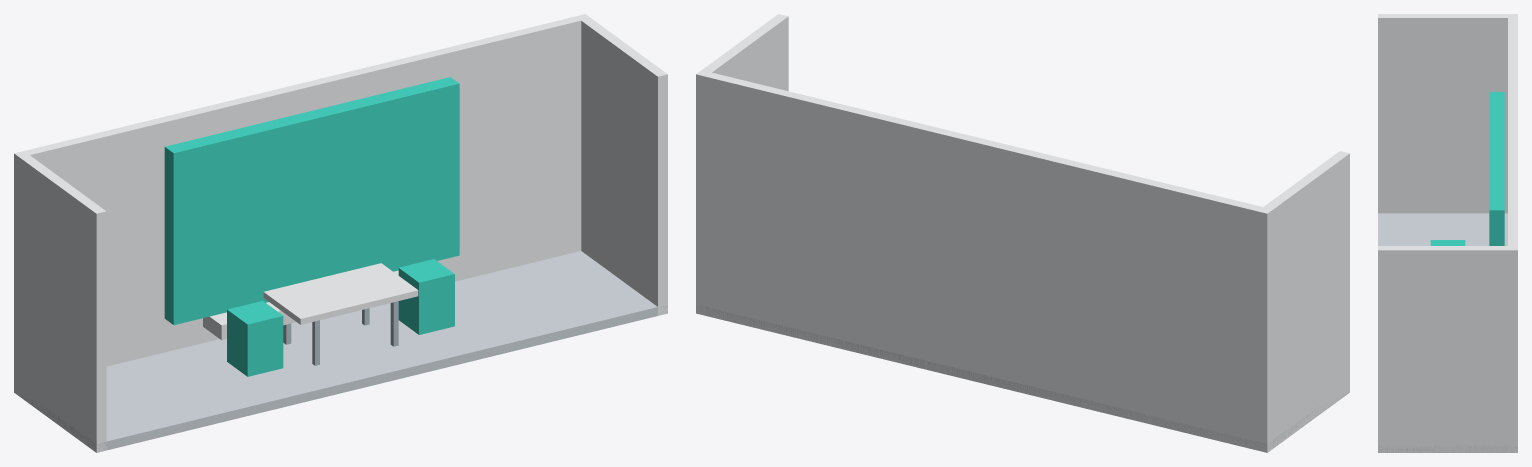
3 views of the same model, side by side, from view 1: azimuth 30°, elevation 25°; view 2: azimuth 150°, elevation 25°; view 3: azimuth 270°, elevation 25° (orthographic). The views are drawn at different scales.
Visible parts, largest first — view 1: Exhibition Booth Concept; view 2: Exhibition Booth Concept; view 3: Exhibition Booth Concept.
Boxes of the visible parts, box(x1,y1,x2,y2) form: Exhibition Booth Concept: box(14, 14, 667, 452); Exhibition Booth Concept: box(696, 14, 1349, 452); Exhibition Booth Concept: box(1378, 14, 1517, 452).
Size of the model in its own units: 8 by 3.2 by 2.
